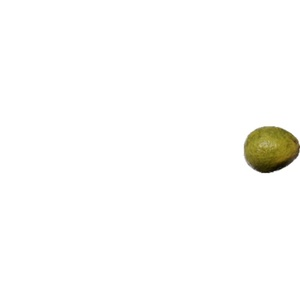goiaba: (243, 121, 299, 176)
